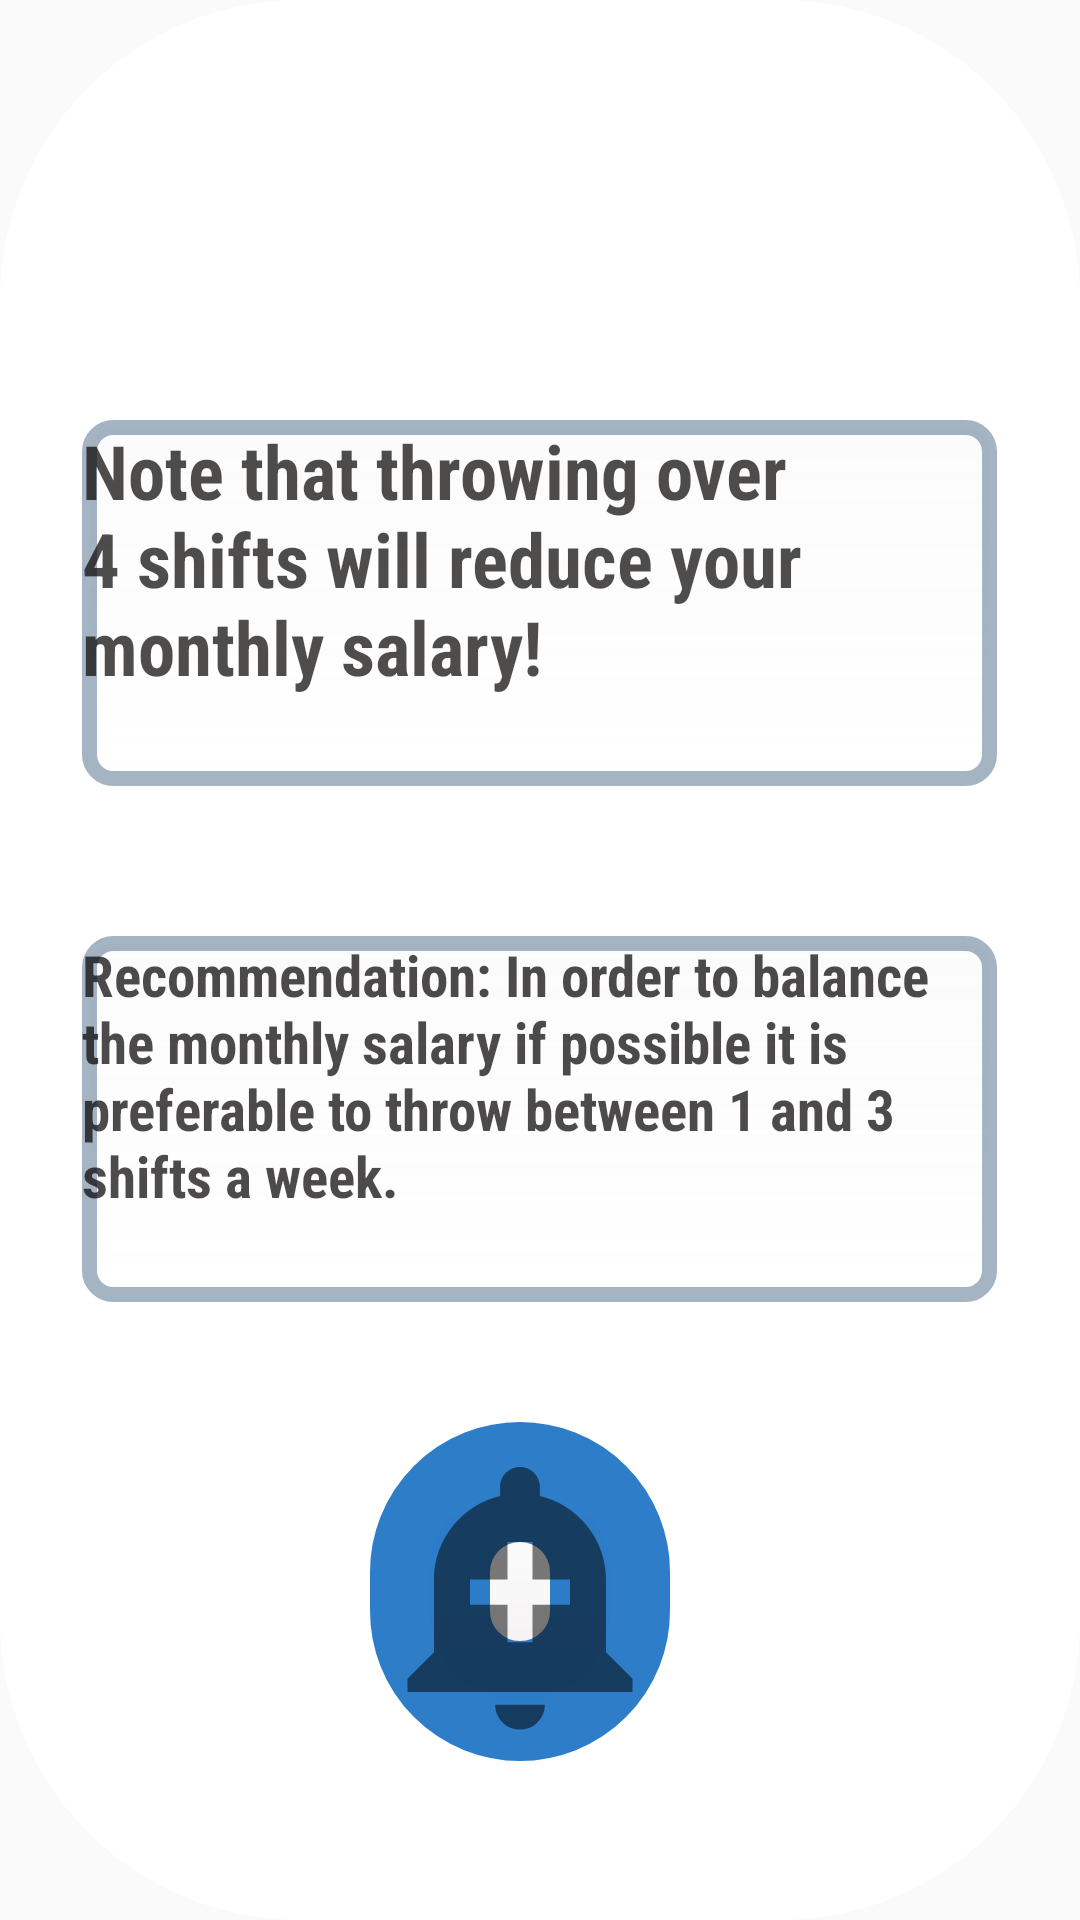

Icons on this 1080w x 1920h Android screen, each with its box as bbox(x1, y1, x2, y2):
add alert: bbox(370, 1422, 670, 1761)
